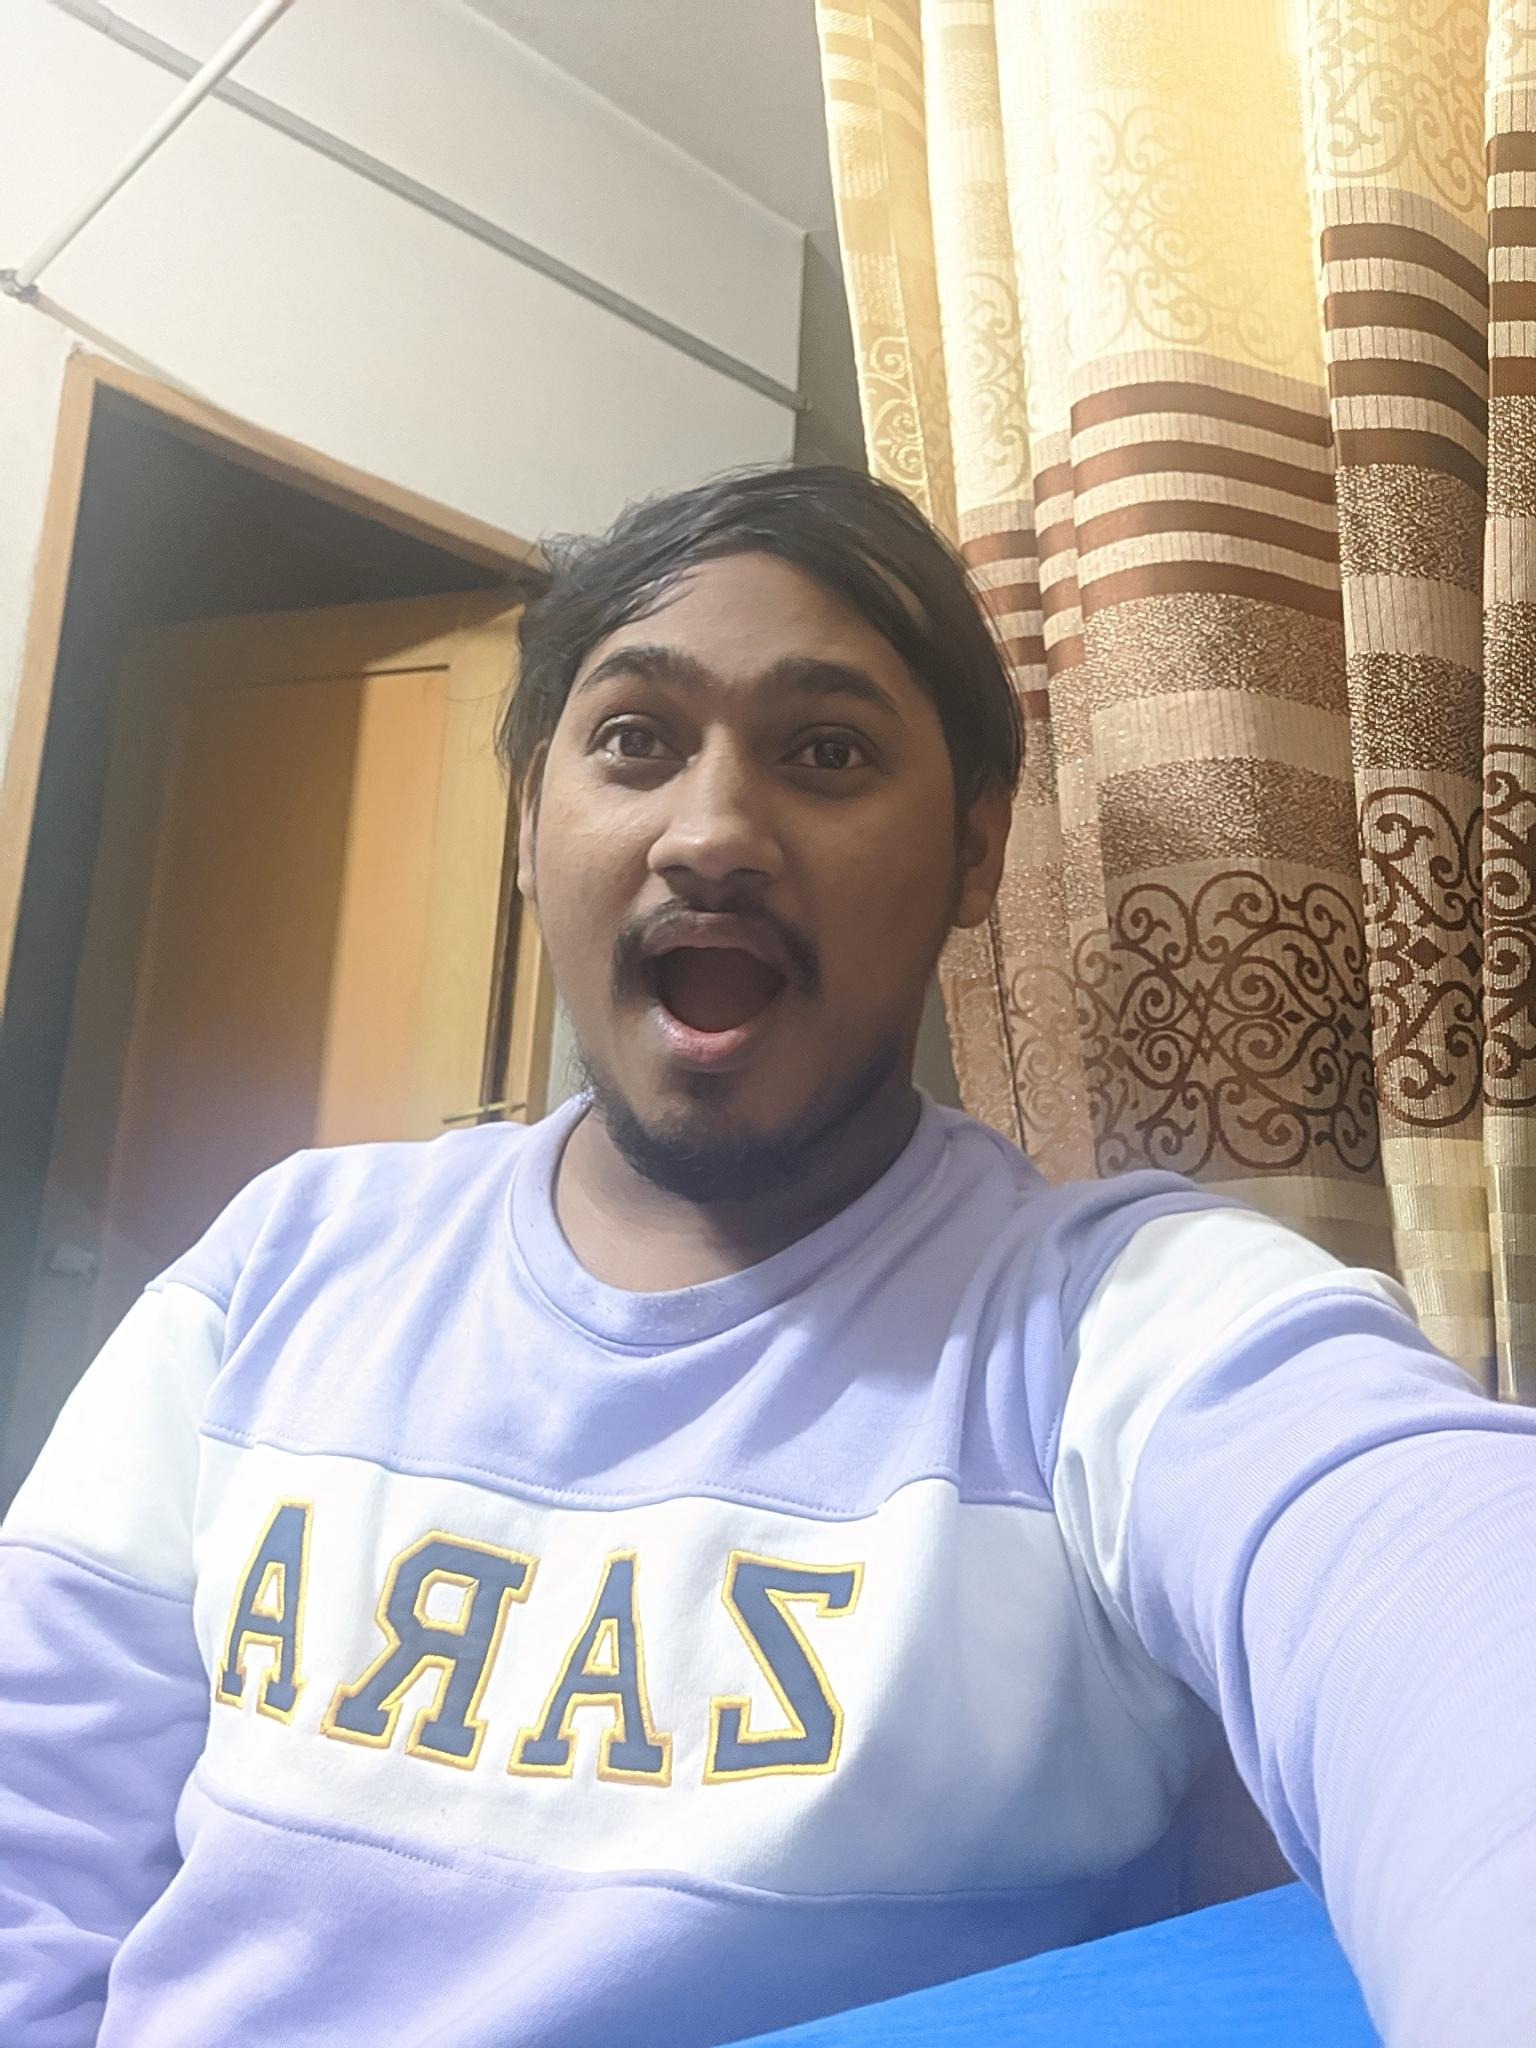Surprise: (495, 601, 949, 1145)
